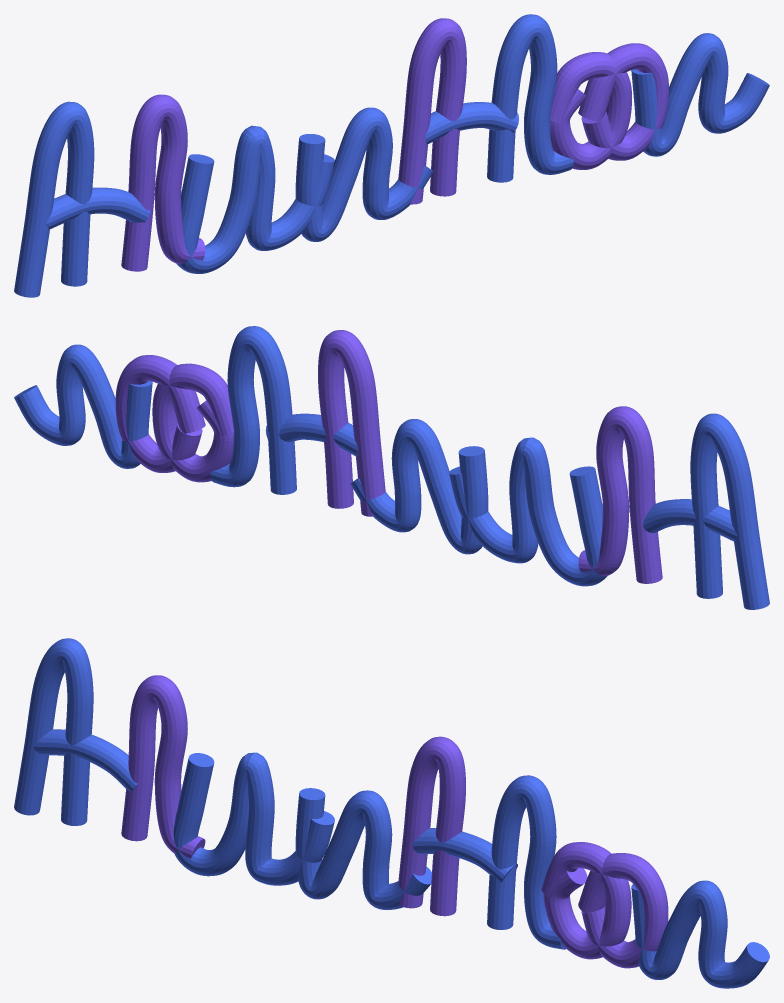
File: HunHoon.glb
3 views of the same model, one above another, from view 1: azimuth 30°, elevation 25°; view 2: azimuth 150°, elevation 25°; view 3: azimuth 330°, elevation 25° (orthographic).
Parts seen in each view (by area): view 1: HunHoon_Stroke_4, HunHoon_Stroke_1, HunHoon_Stroke_5, HunHoon_Stroke_3, HunHoon_Stroke_6, HunHoon_Stroke_8, HunHoon_Stroke_11, HunHoon_Stroke_9, HunHoon_Stroke_10, HunHoon_Stroke_2, HunHoon_Stroke_7; view 2: HunHoon_Stroke_4, HunHoon_Stroke_1, HunHoon_Stroke_3, HunHoon_Stroke_5, HunHoon_Stroke_6, HunHoon_Stroke_8, HunHoon_Stroke_11, HunHoon_Stroke_9, HunHoon_Stroke_10, HunHoon_Stroke_2, HunHoon_Stroke_7; view 3: HunHoon_Stroke_4, HunHoon_Stroke_1, HunHoon_Stroke_3, HunHoon_Stroke_5, HunHoon_Stroke_6, HunHoon_Stroke_8, HunHoon_Stroke_11, HunHoon_Stroke_9, HunHoon_Stroke_10, HunHoon_Stroke_2, HunHoon_Stroke_7.
Boxes of the visible parts, x1,y1,x2,y2 form: HunHoon_Stroke_4: [176, 125, 334, 273]; HunHoon_Stroke_1: [14, 101, 94, 297]; HunHoon_Stroke_5: [295, 107, 433, 241]; HunHoon_Stroke_3: [121, 94, 205, 271]; HunHoon_Stroke_6: [398, 18, 466, 204]; HunHoon_Stroke_8: [487, 14, 573, 182]; HunHoon_Stroke_11: [631, 33, 769, 156]; HunHoon_Stroke_9: [550, 52, 631, 169]; HunHoon_Stroke_10: [578, 43, 668, 160]; HunHoon_Stroke_2: [46, 187, 150, 229]; HunHoon_Stroke_7: [425, 102, 518, 143]; HunHoon_Stroke_4: [449, 437, 607, 586]; HunHoon_Stroke_1: [690, 413, 769, 609]; HunHoon_Stroke_3: [578, 406, 662, 583]; HunHoon_Stroke_5: [350, 419, 488, 554]; HunHoon_Stroke_6: [318, 330, 385, 516]; HunHoon_Stroke_8: [210, 326, 296, 494]; HunHoon_Stroke_11: [14, 344, 152, 468]; HunHoon_Stroke_9: [152, 363, 233, 482]; HunHoon_Stroke_10: [115, 355, 205, 472]; HunHoon_Stroke_2: [643, 499, 737, 541]; HunHoon_Stroke_7: [265, 413, 358, 456]; HunHoon_Stroke_4: [173, 752, 334, 885]; HunHoon_Stroke_1: [14, 638, 93, 825]; HunHoon_Stroke_3: [121, 675, 205, 858]; HunHoon_Stroke_5: [295, 788, 431, 909]; HunHoon_Stroke_6: [398, 736, 465, 916]; HunHoon_Stroke_8: [487, 775, 565, 949]; HunHoon_Stroke_11: [631, 880, 769, 988]; HunHoon_Stroke_9: [541, 842, 631, 959]; HunHoon_Stroke_10: [578, 853, 668, 968]; HunHoon_Stroke_2: [33, 729, 138, 792]; HunHoon_Stroke_7: [412, 828, 517, 882].
Size of the model in its own units: 16.13 by 4.14 by 0.5195.
